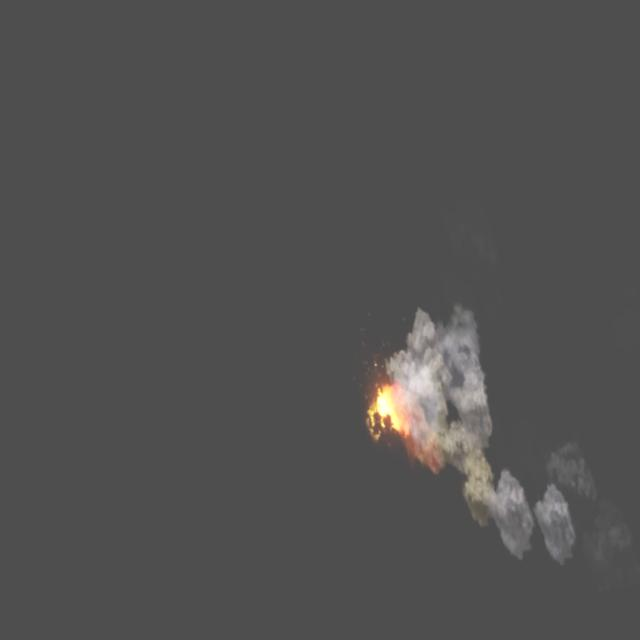fire: (366, 377, 408, 436)
smoke: (382, 282, 582, 591)
